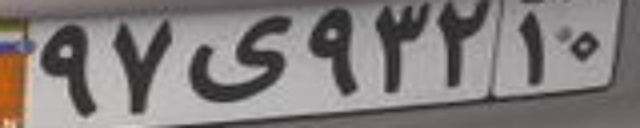0: (566, 31, 602, 61)
1: (514, 11, 546, 84)
2: (436, 3, 488, 88)
3: (368, 2, 427, 93)
7: (112, 19, 174, 115)
9: (35, 23, 96, 116), (309, 6, 360, 95)
ye: (191, 16, 289, 101)
